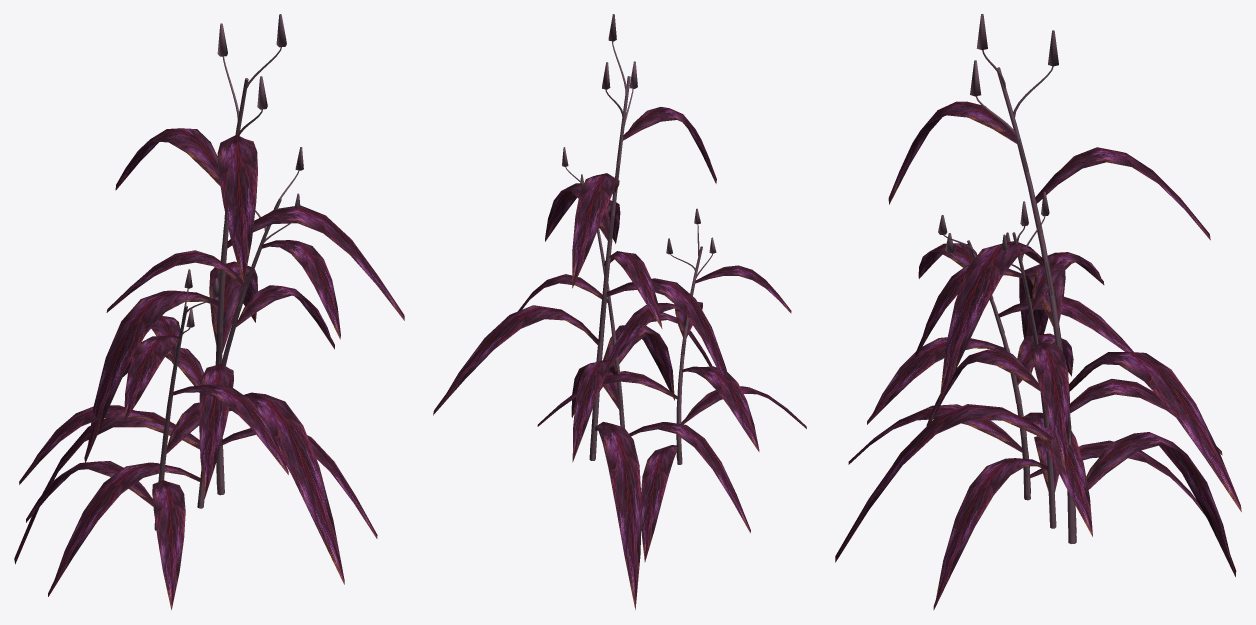
File: finegrass_10.glb
3 views of the same model, side by side, from view 1: azimuth 30°, elevation 25°; view 2: azimuth 150°, elevation 25°; view 3: azimuth 270°, elevation 25° (orthographic). The views are drawn at different scales.
Visible parts, largest first — view 1: export; view 2: export; view 3: export.
Part boxes in pixels (x1,y1,x2,y2): export: (14,14,404,610); export: (433,14,806,610); export: (835,14,1241,610).
Bounding box in the file's own units: 0.9295 × 1.65 × 0.9539.
2 materials, 2 textured.
